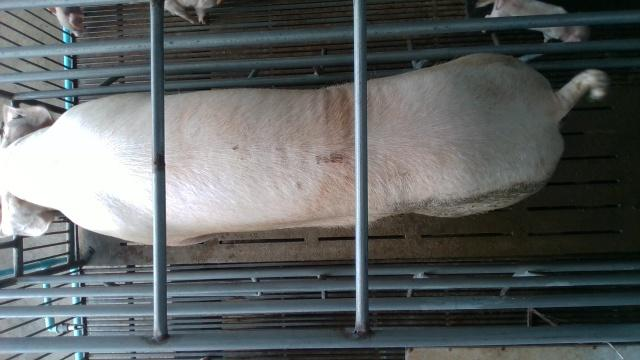piglet: (475, 0, 589, 43), (165, 0, 223, 25)
sow-stand-feed: (0, 51, 606, 246)
